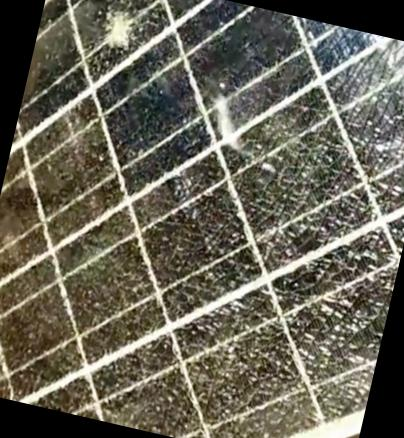Crack: (144, 83, 403, 409), (83, 0, 159, 65)
